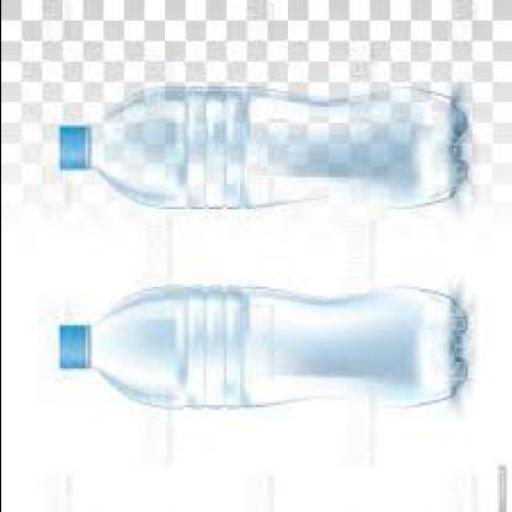plastic: (55, 89, 466, 214), (57, 291, 464, 412), (55, 130, 87, 173), (56, 328, 88, 371)
